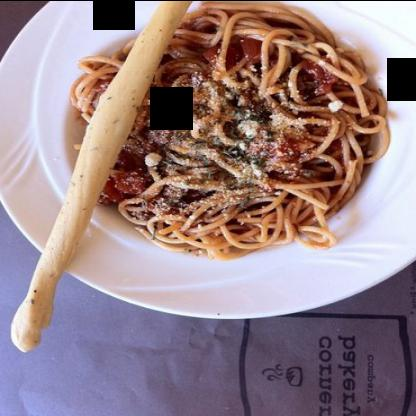pasta: (63, 5, 387, 248)
